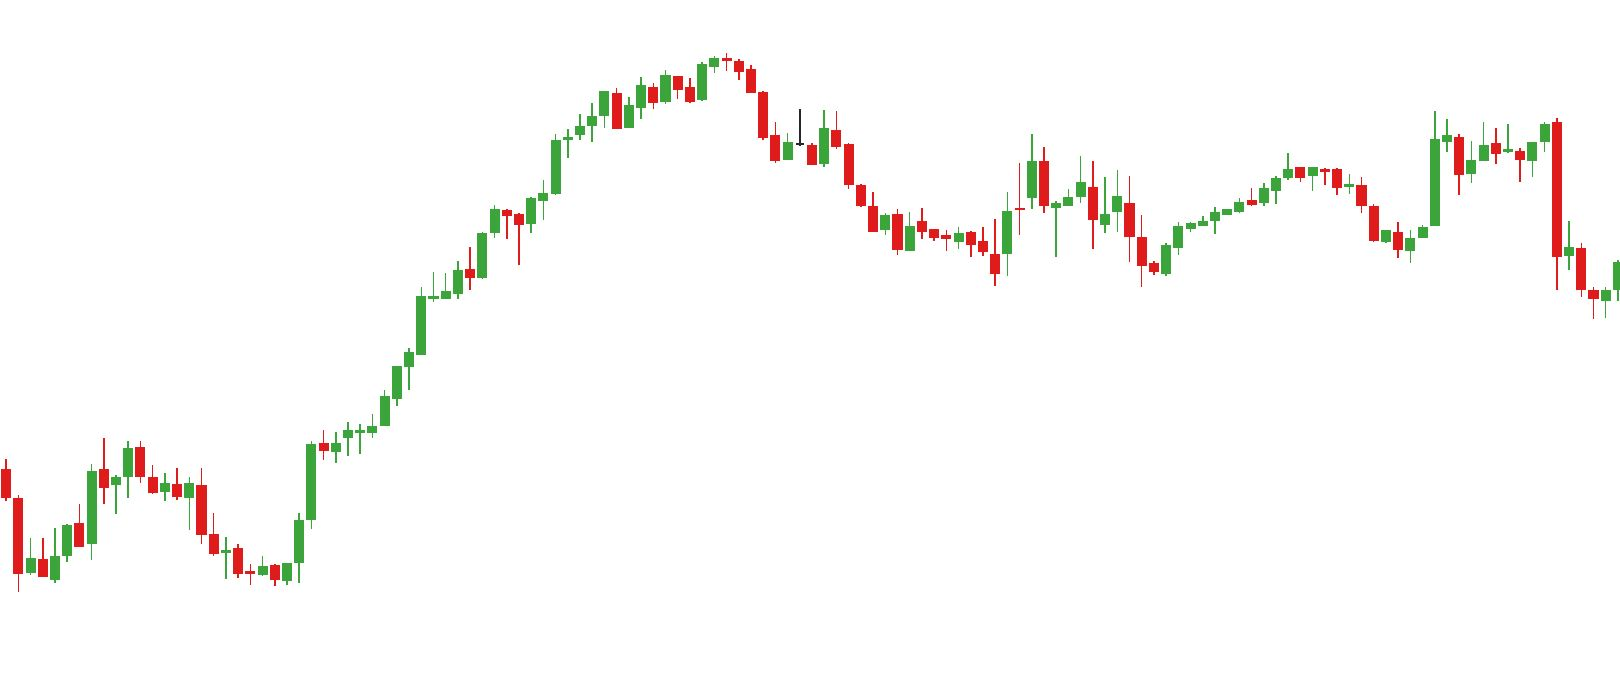sell: (1282, 110, 1466, 200)
